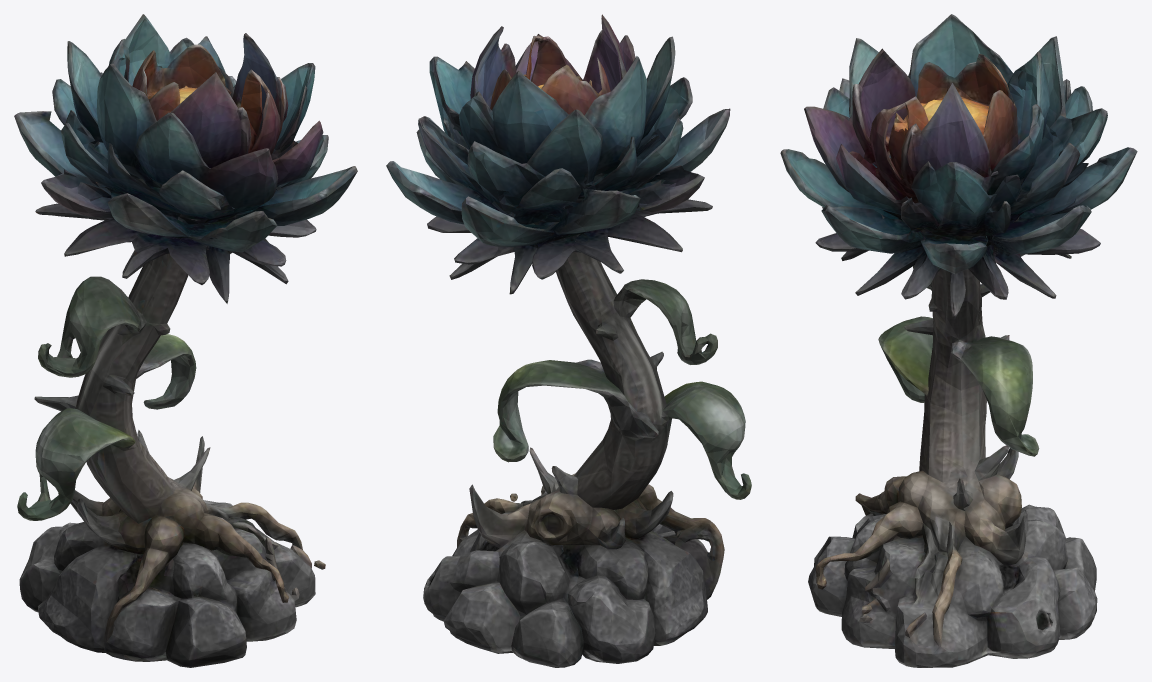
The model's file is craterBloom.glb.
3 views of the same model, side by side, from view 1: azimuth 30°, elevation 25°; view 2: azimuth 150°, elevation 25°; view 3: azimuth 270°, elevation 25° (orthographic).
Parts seen in each view (by area): view 1: world; view 2: world; view 3: world.
Part boxes in pixels (<box>): world: <box>14,14,357,667</box>; world: <box>386,14,751,667</box>; world: <box>780,14,1137,667</box>.
Size of the model in its own units: 0.5992 by 0.9996 by 0.5711.
1 material, 1 textured.
